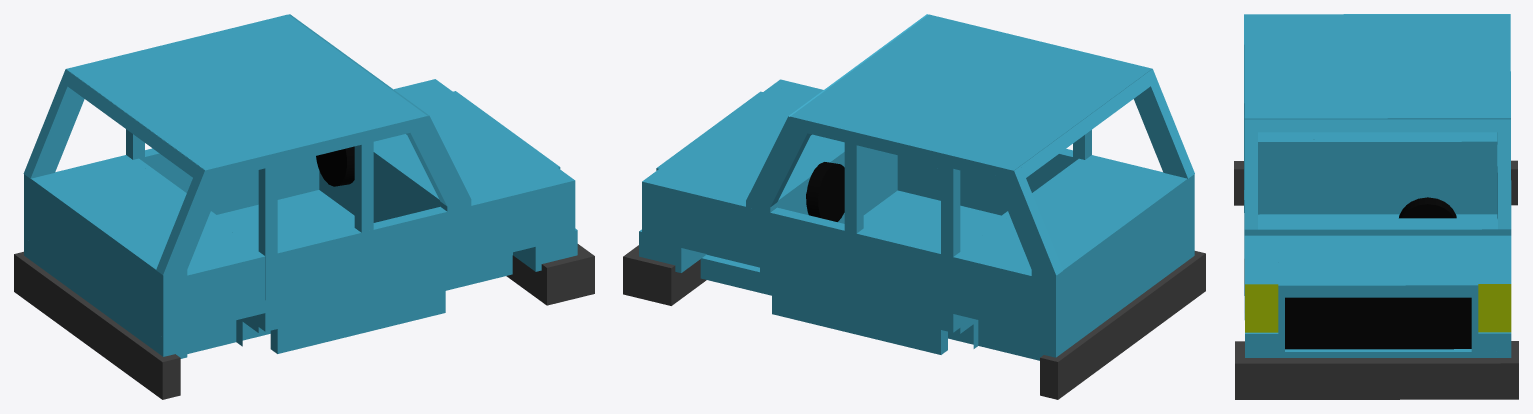
File: Car.obj
3 views of the same model, side by side, from view 1: azimuth 30°, elevation 25°; view 2: azimuth 150°, elevation 25°; view 3: azimuth 270°, elevation 25° (orthographic). The views are drawn at different scales.
Parts seen in each view (by area): view 1: Car; view 2: Car; view 3: Car.
Part boxes in pixels (bbox=[...]): Car: bbox=[14, 14, 594, 399]; Car: bbox=[623, 14, 1205, 399]; Car: bbox=[1234, 14, 1518, 399].
Bounding box in the file's own units: 18.03 × 8.5 × 10.69.
